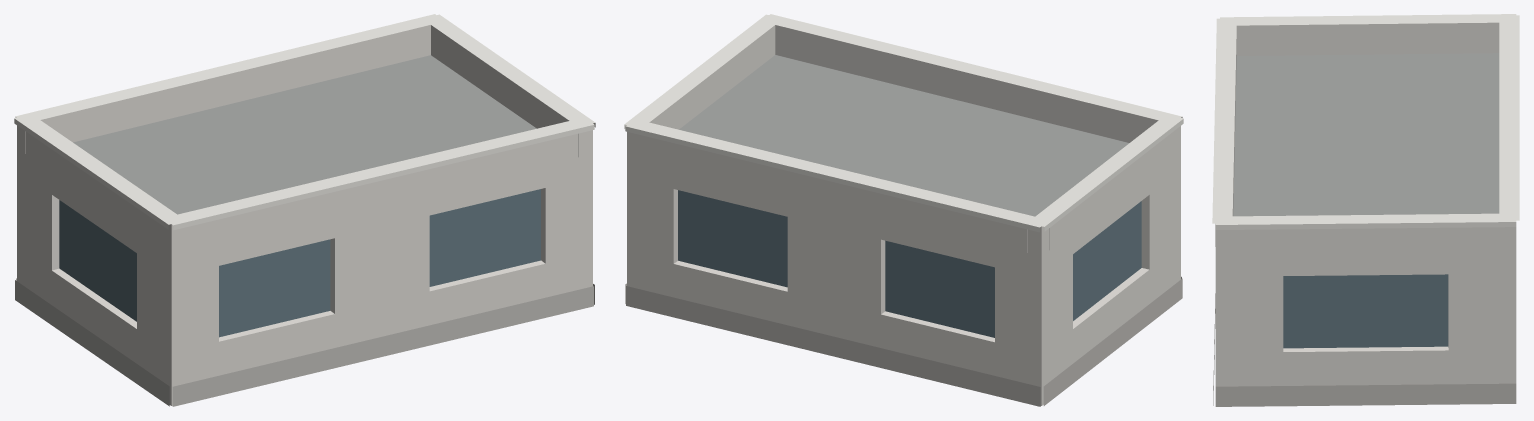
3 renders of one model, left to right at view 1: azimuth 30°, elevation 25°; view 2: azimuth 150°, elevation 25°; view 3: azimuth 270°, elevation 25°, orthographic.
Visible parts, largest first — view 1: gateBooth__wall, gateBooth__roof, gateBooth__parapet, gateBooth__glass, gateBooth__trim, gateBooth__base; view 2: gateBooth__wall, gateBooth__roof, gateBooth__parapet, gateBooth__glass, gateBooth__trim, gateBooth__base; view 3: gateBooth__roof, gateBooth__wall, gateBooth__parapet, gateBooth__trim, gateBooth__glass, gateBooth__base.
Boxes of the visible parts, x1,y1,x2,y2 form: gateBooth__wall: [17, 148, 592, 405]; gateBooth__roof: [73, 55, 536, 214]; gateBooth__parapet: [17, 25, 592, 254]; gateBooth__glass: [59, 189, 540, 337]; gateBooth__trim: [14, 14, 595, 230]; gateBooth__base: [15, 278, 594, 406]; gateBooth__wall: [627, 148, 1180, 405]; gateBooth__roof: [679, 55, 1129, 216]; gateBooth__parapet: [627, 25, 1180, 256]; gateBooth__glass: [678, 190, 1141, 337]; gateBooth__trim: [624, 14, 1183, 232]; gateBooth__base: [625, 276, 1182, 406]; gateBooth__roof: [1233, 53, 1499, 216]; gateBooth__wall: [1215, 251, 1516, 386]; gateBooth__parapet: [1215, 22, 1516, 253]; gateBooth__trim: [1212, 14, 1519, 229]; gateBooth__glass: [1283, 274, 1448, 348]; gateBooth__base: [1213, 293, 1516, 406].
Bounding box in the file's own units: 8.93 × 3.6 × 5.5.
